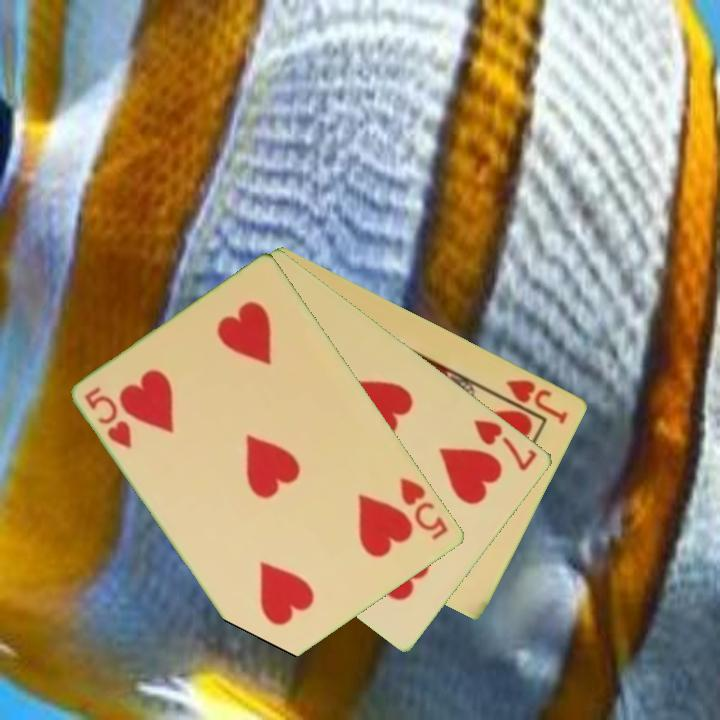5h: (396, 473, 452, 543), (81, 383, 136, 452)
7h: (470, 415, 541, 474)
Jh: (491, 375, 572, 427)
